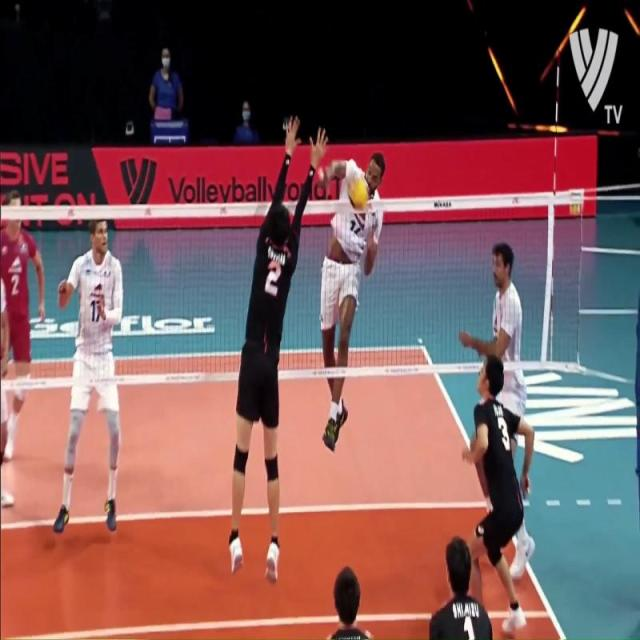volleyball: (348, 177, 371, 212)
